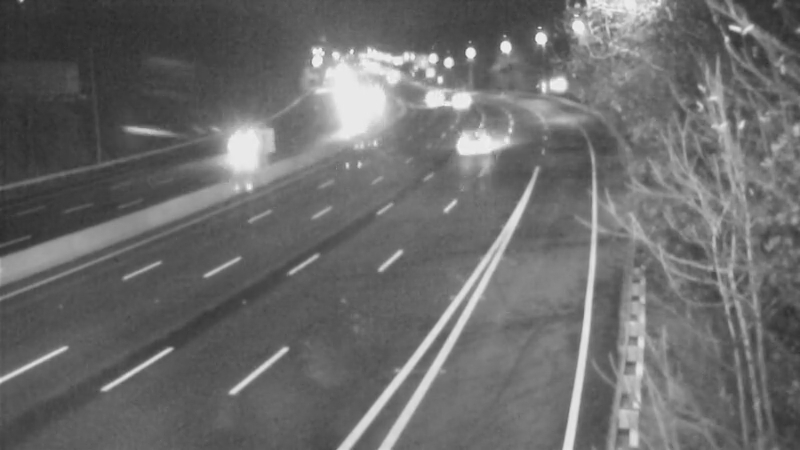vehicle: (194, 114, 274, 194), (408, 72, 458, 122), (437, 74, 487, 124), (455, 114, 505, 164)
